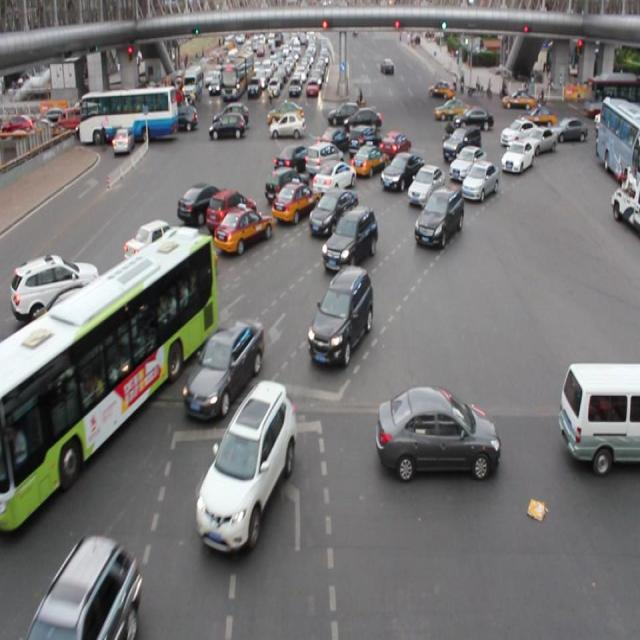car: (195, 380, 296, 552), (29, 538, 139, 640), (375, 386, 497, 477), (184, 318, 264, 417), (28, 284, 122, 360), (308, 266, 373, 365), (10, 253, 101, 321), (131, 238, 215, 302), (322, 205, 377, 271), (213, 206, 273, 256), (124, 220, 190, 264), (413, 188, 462, 245), (204, 189, 258, 234), (308, 187, 358, 235), (271, 181, 323, 224), (177, 182, 228, 221), (264, 166, 309, 207), (380, 151, 425, 190), (406, 162, 444, 208), (312, 160, 356, 198), (460, 160, 497, 200), (440, 126, 481, 161), (349, 141, 387, 178), (448, 145, 486, 180), (274, 144, 315, 176), (499, 117, 539, 147), (499, 139, 533, 174), (378, 130, 411, 165), (514, 127, 556, 154), (345, 125, 380, 156), (317, 126, 350, 155)
truck: (560, 360, 640, 471), (303, 143, 345, 178)
van: (1, 234, 214, 530)
